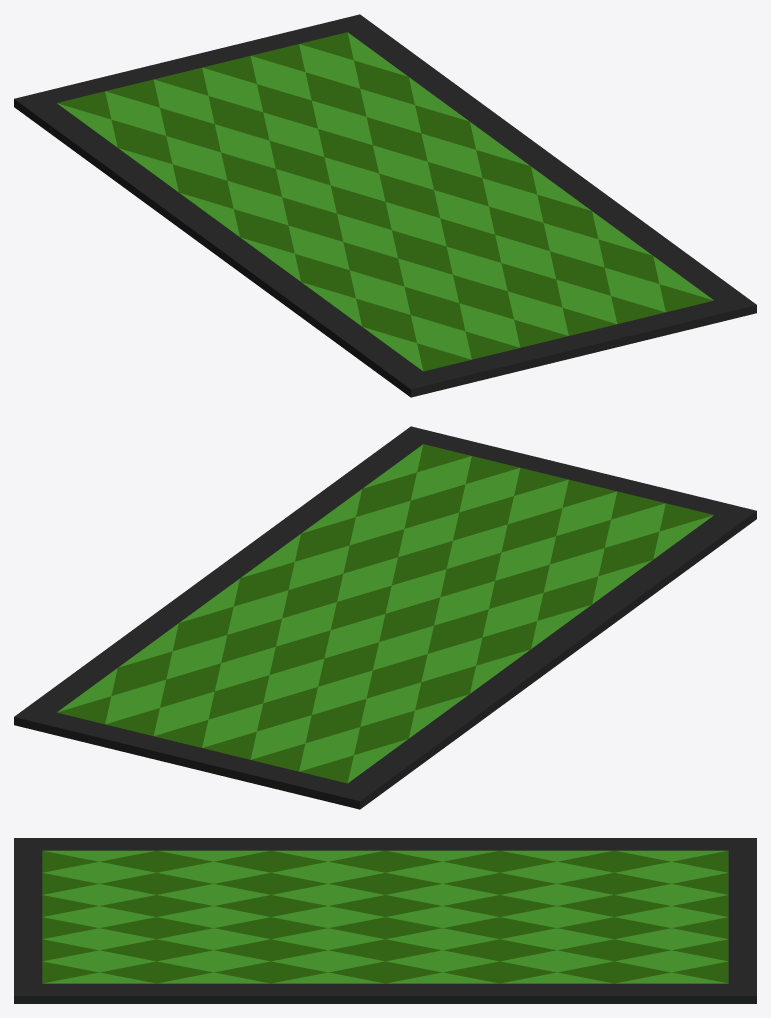
File: Carpet_3.fbx
3 views of the same model, one above another, from view 1: azimuth 30°, elevation 25°; view 2: azimuth 150°, elevation 25°; view 3: azimuth 270°, elevation 25° (orthographic). The views are drawn at different scales.
Visible parts, largest first — view 1: Carpet.003; view 2: Carpet.003; view 3: Carpet.003.
Part boxes in pixels (left/top/right/bottom): Carpet.003: left=14, top=14, right=756, bottom=397; Carpet.003: left=14, top=426, right=756, bottom=809; Carpet.003: left=14, top=838, right=756, bottom=1003.
Size of the model in its own units: 305 by 7 by 605.
